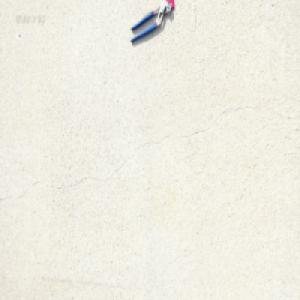Label: (166, 0, 179, 15)
Pliers: (129, 0, 172, 45)
